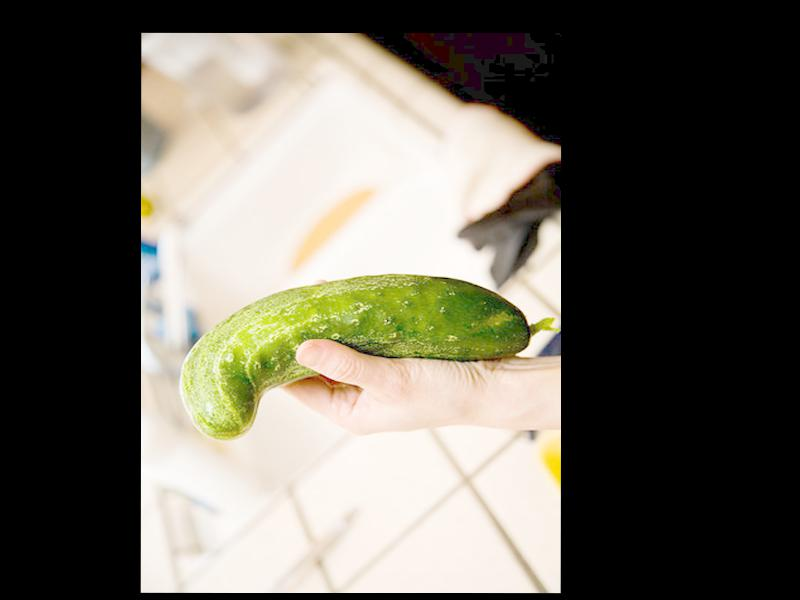Cucumber: (179, 272, 555, 440)
